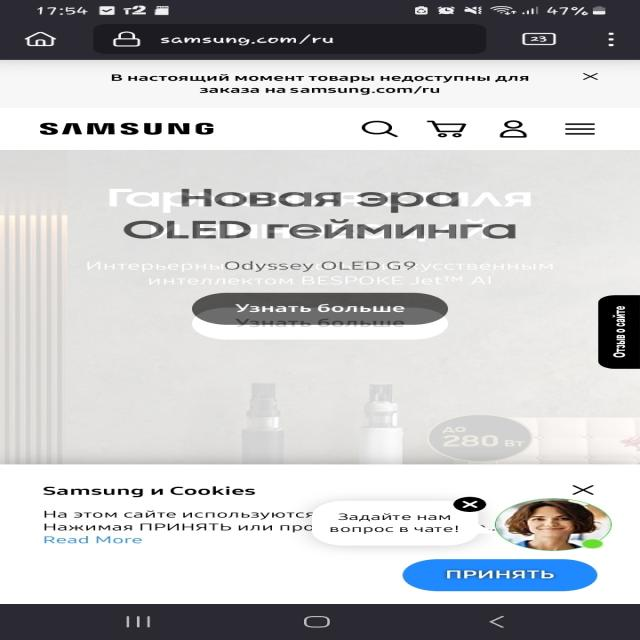button: (404, 559, 598, 592), (569, 483, 600, 496), (576, 71, 606, 83), (456, 499, 484, 511)
site: (0, 463, 640, 603), (0, 61, 640, 106), (314, 496, 487, 547)
